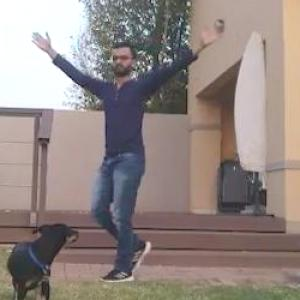takeoff: (21, 21, 236, 286)
